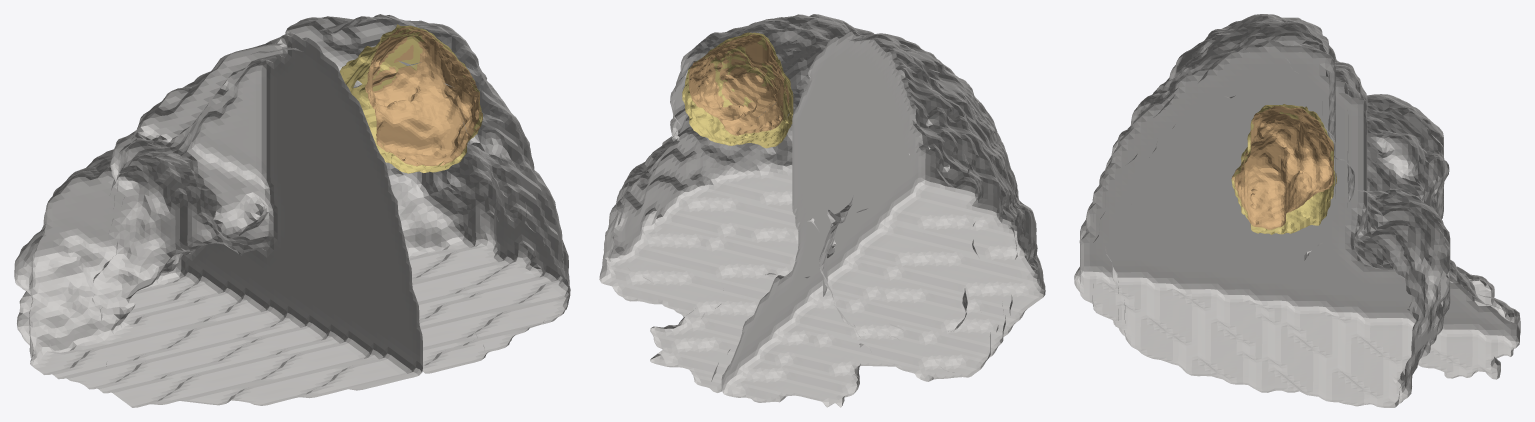
3 renders of one model, left to right at view 1: azimuth 30°, elevation 25°; view 2: azimuth 150°, elevation 25°; view 3: azimuth 270°, elevation 25°, orthographic. The views are drawn at different scales.
Parts seen in each view (by area): view 1: brain_left, brain_right, core, edema; view 2: brain_left, brain_right, core, edema; view 3: brain_right, brain_left, core, edema.
Boxes of the visible parts, x1,y1,x2,y2 form: brain_left: [14, 32, 422, 407]; brain_right: [285, 14, 570, 373]; core: [365, 27, 482, 166]; edema: [340, 24, 482, 173]; brain_left: [721, 29, 1045, 407]; brain_right: [599, 14, 873, 392]; core: [688, 34, 789, 135]; edema: [682, 32, 793, 148]; brain_right: [1074, 40, 1519, 407]; brain_left: [1079, 14, 1520, 334]; core: [1232, 106, 1333, 229]; edema: [1231, 104, 1336, 234].
Bounding box in the file's own units: 150 × 106 × 140.
